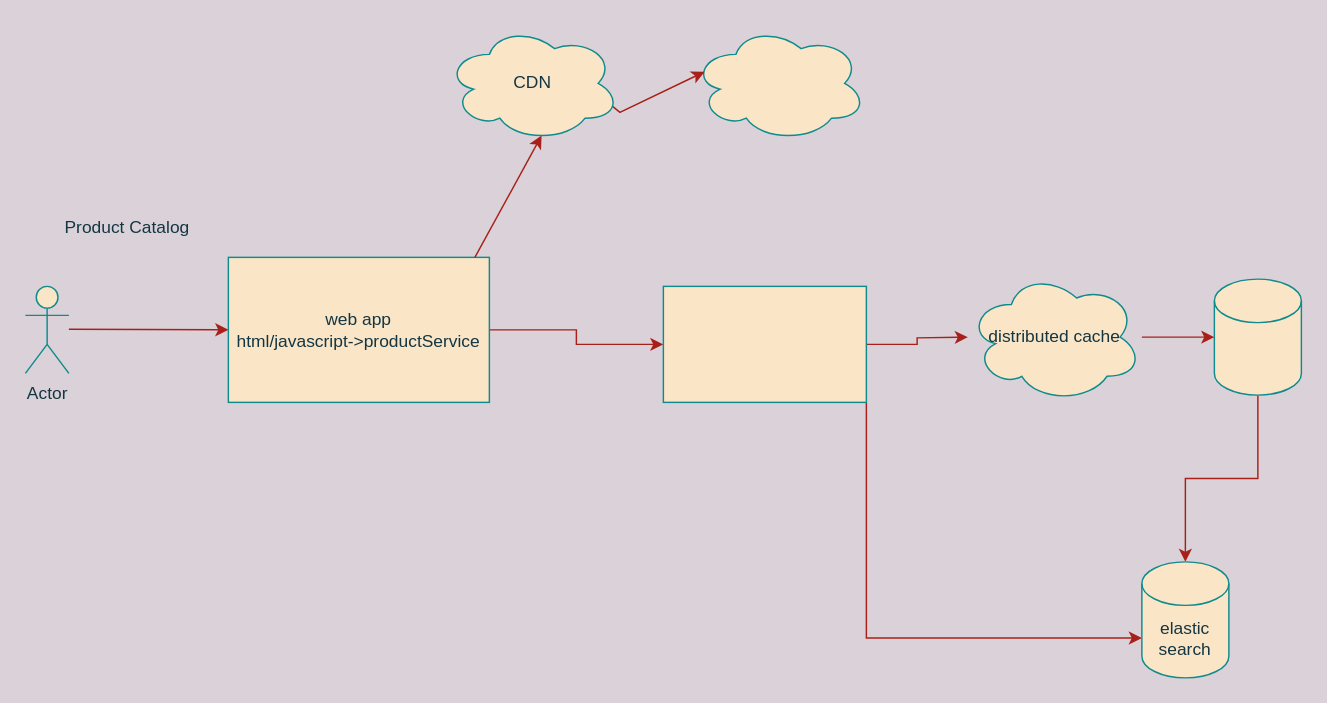
Some shapes in this 1327 by 703 pixel diagram are drawn without their labels. Here are the shapes that lost their labels. From the top down, the centre of each, then its label:
(x=778, y=82): S3
(x=764, y=343): ProductService
(x=1257, y=336): No Sql DB
